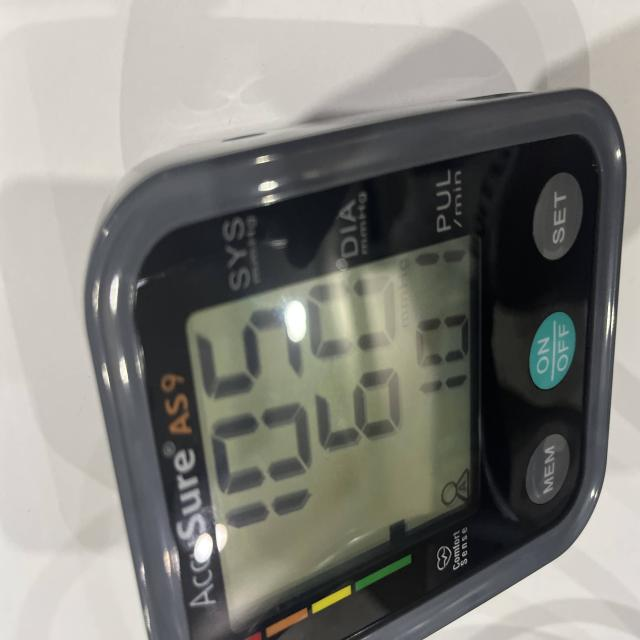bp: (79, 83, 628, 640)
